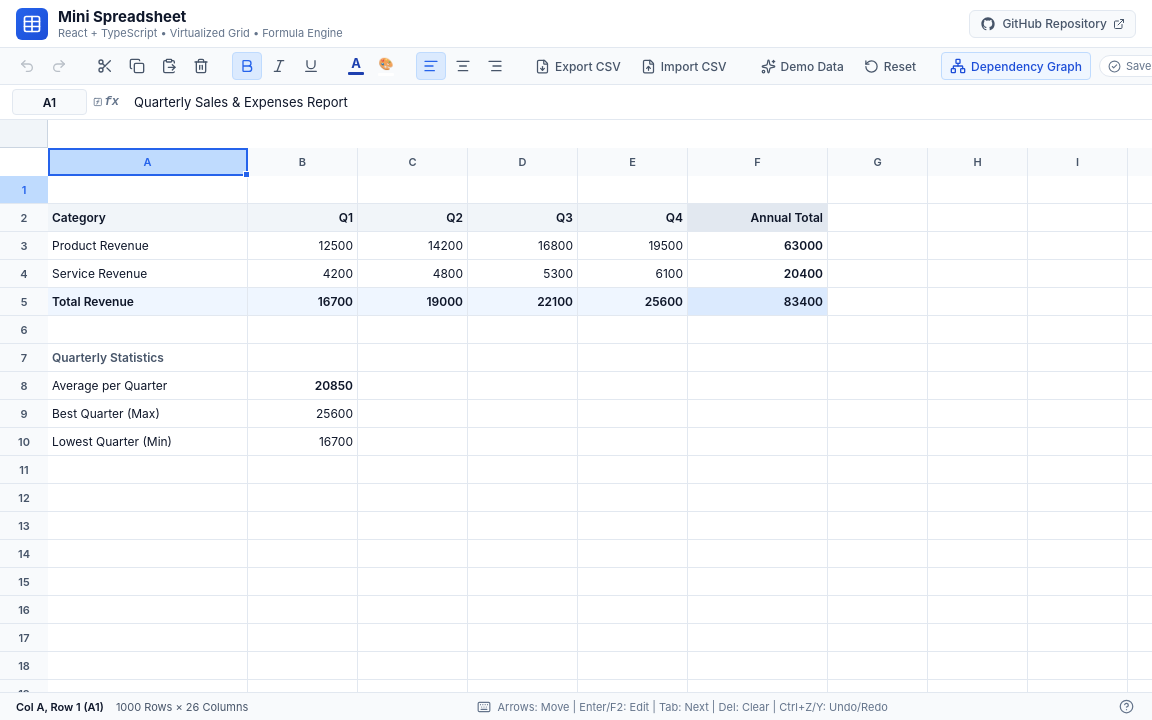
Recruiter Comprehensive End-to-End Evaluation › 8. Dependency Graph Inspector: Opens modal and presents calculation strategy
The image size is (1152, 720).
Step 1. Click the button titled "View Dependency Graph & Calculation Strategy" → click(1016, 66), box [941,52,1091,80]
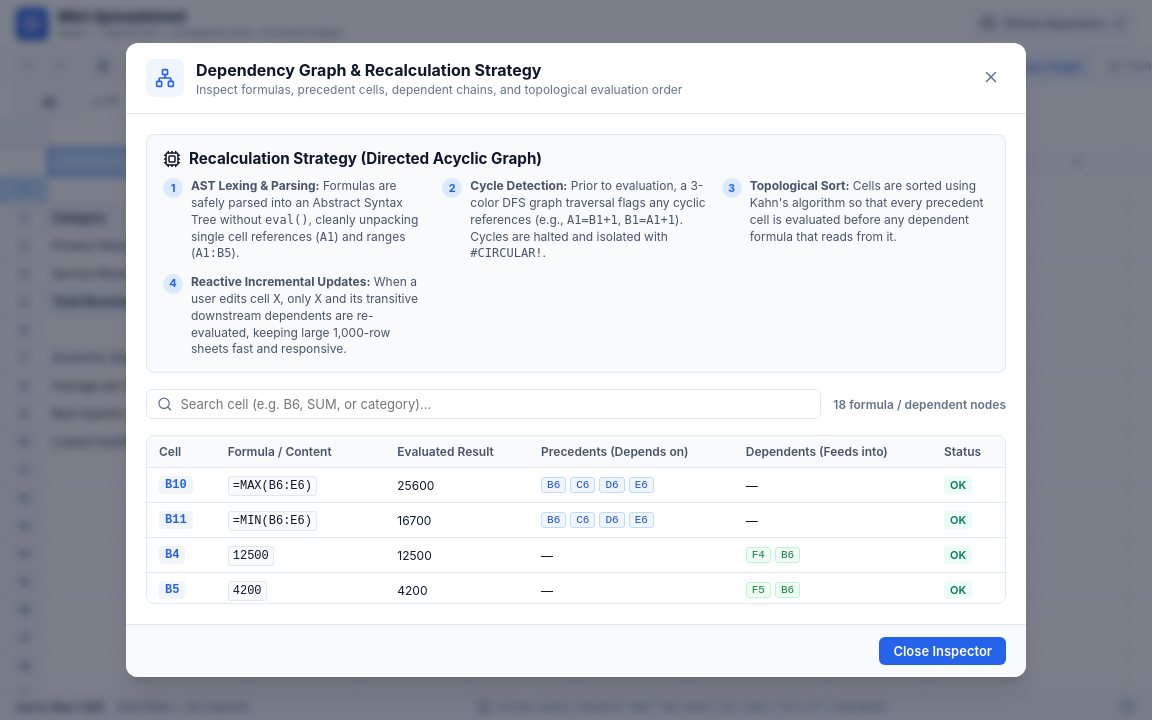
Expected: the heading "Dependency Graph & Recalculation Strategy" is shown, [196,60,542,80]
Expected: the heading "Recalculation Strategy (Directed Acyclic Graph)" is shown, [189,149,542,168]
Expected: the text "Kahn's algorithm" is shown, [750,178,984,244]
# Close modal
Step 2. Click the button "Close Inspector" → click(943, 651), box [879,637,1006,665]
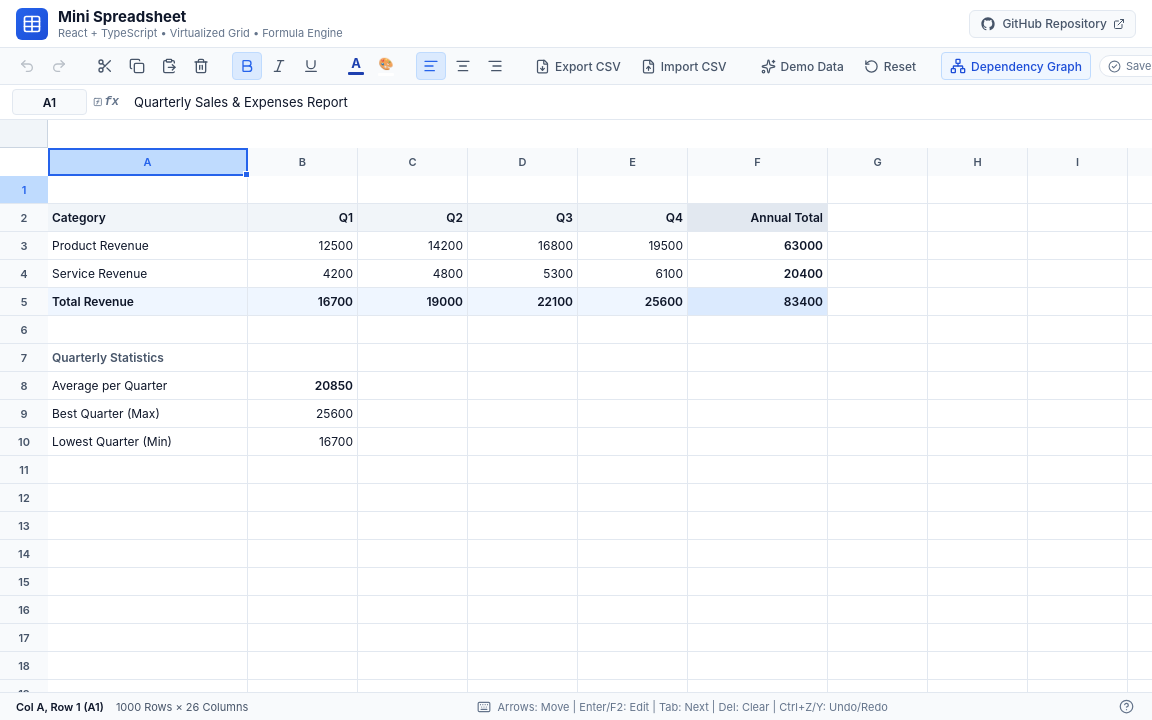
Expected: the heading "Dependency Graph & Recalculation Strategy" is gone
